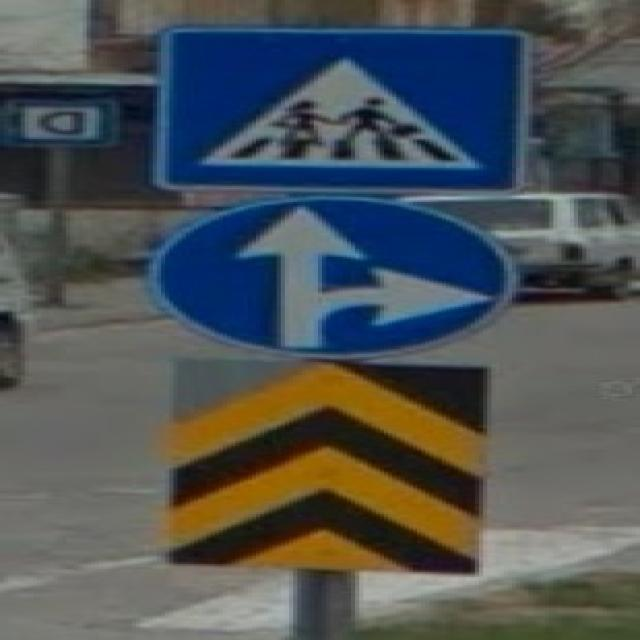Straight or Right: (142, 201, 517, 353)
